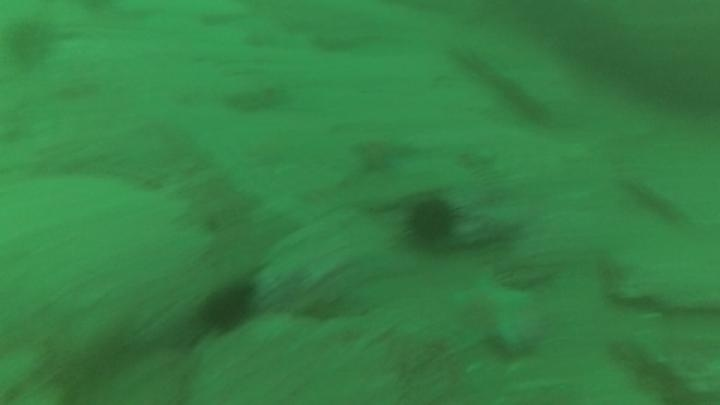echinus: (196, 279, 257, 336), (402, 194, 461, 250), (3, 16, 56, 70)
starfish: (445, 270, 540, 358), (349, 133, 416, 177)
